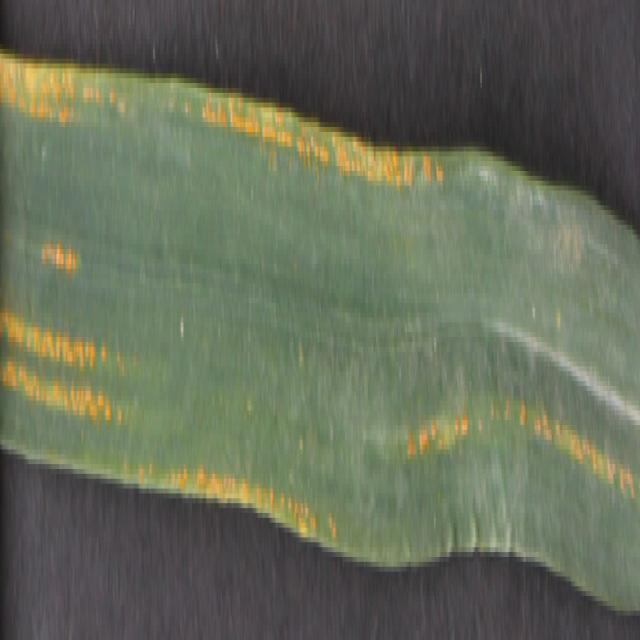leaf rust: (1, 39, 124, 454), (399, 332, 639, 538), (194, 83, 446, 225), (135, 405, 337, 557)
